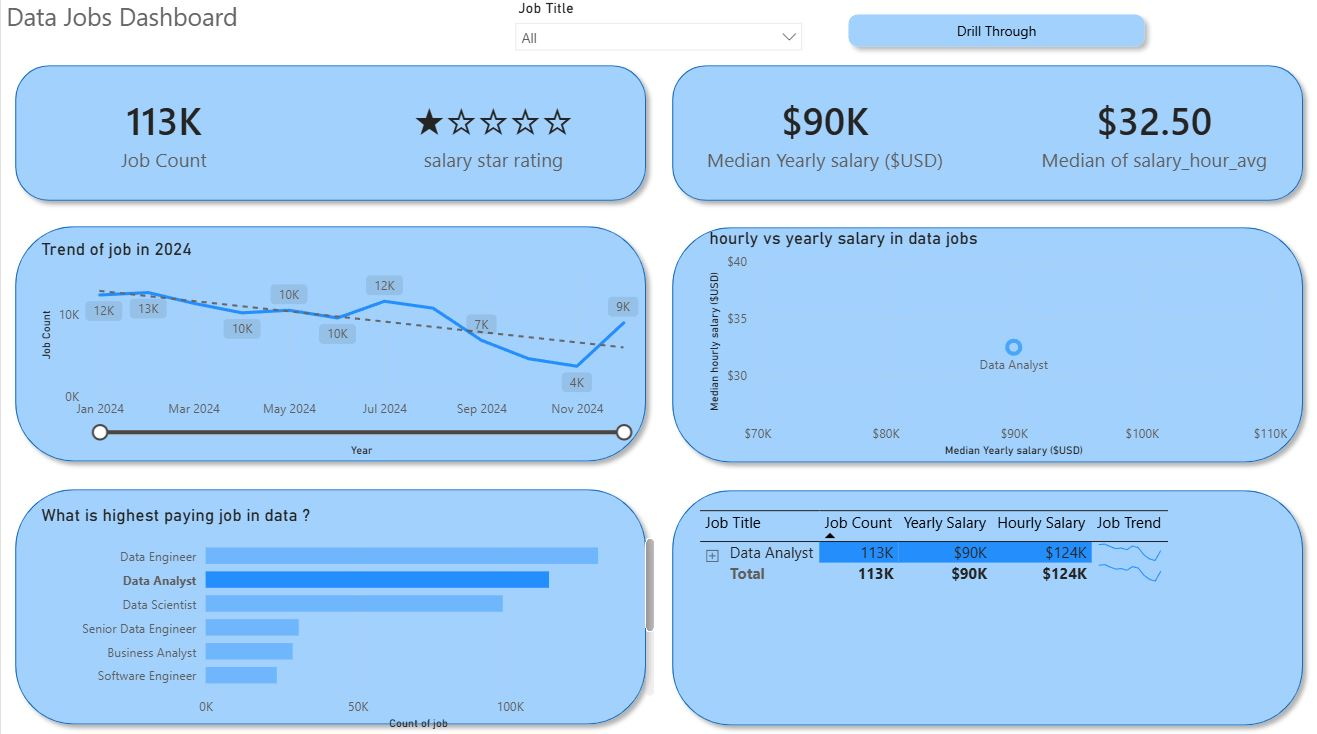

This screenshot's page, from the dashboard's own definition file:
{"tool":"powerbi","page":{"name":"Dashboard","canvas":[1280,720],"ordinal":0},"visuals":[{"type":"group","id":"g1","title":"bg","box":[5,60,1271,660.5],"z":0},{"type":"shape","box":[5,60,631.5,149.9],"z":0,"group":"g1"},{"type":"textbox","box":[0,0,266.5,42.8],"z":1000},{"type":"shape","box":[644.5,60,631.5,149.9],"z":1000,"group":"g1"},{"type":"cardVisual","fields":{"Data":["Median(job_postings_flat.salary_year_avg)"]},"box":[640,76.8,323.5,116.4],"z":2000},{"type":"shape","box":[5,216.9,631.5,246.8],"z":2000,"group":"g1"},{"type":"cardVisual","fields":{"Data":["Median(job_postings_flat.salary_hour_avg)"]},"box":[963.5,76.8,316.5,116.4],"z":3000},{"type":"shape","box":[5,472.7,631.5,246.8],"z":3000,"group":"g1"},{"type":"cardVisual","fields":{"Data":["job_postings_flat.salary star rating"]},"box":[317.7,76.8,322.3,116.4],"z":4000},{"type":"shape","box":[644.5,473.7,631.5,246.8],"z":4000,"group":"g1"},{"type":"cardVisual","fields":{"Data":["CountNonNull(job_postings_flat.job_title_short)"]},"box":[0,76.8,317.7,116.4],"z":5000},{"type":"shape","box":[644.5,217.9,631.5,246.8],"z":5000,"group":"g1"},{"type":"lineChart","title":"Trend of job in 2024","fields":{"Category":["job_postings_flat.job_posted_date.Variation.Date Hierarchy.Year","job_postings_flat.job_posted_date.Variation.Date Hierarchy.Quarter","job_postings_flat.job_posted_date.Variation.Date Hierarchy.Month","job_postings_flat.job_posted_date.Variation.Date Hierarchy.Day"],"Y":["CountNonNull(job_postings_flat.job_title_short)"]},"box":[33.7,238.5,602.8,216.4],"z":6000},{"type":"barChart","title":"What is highest paying job in data ?","fields":{"Category":["job_postings_flat.job_title_short"],"Y":["CountNonNull(job_postings_flat.job_title_short)"]},"box":[33.7,496.9,606.3,223.4],"z":7000},{"type":"scatterChart","title":"hourly vs yearly salary in data jobs","fields":{"X":["Median(job_postings_flat.salary_year_avg)"],"Y":["Median(job_postings_flat.salary_hour_avg)"],"Series":["job_postings_flat.job_title_short"]},"box":[684.2,228.1,572.5,226.9],"z":8000},{"type":"pivotTable","fields":{"Rows":["job_postings_flat.job_title_short","job_postings_flat.job_posted_date.Variation.Date Hierarchy.Quarter"],"Values":["CountNonNull(job_postings_flat.job_title_short)","Median(job_postings_flat.salary_year_avg)","Sum(job_postings_flat.salary_hour_avg)","SparklineData(CountNonNull(job_postings_flat.job_title_short)_[job_postings_flat.job_posted_date.Variation.Date Hierarch"]},"box":[674.9,496.9,600.4,209.5],"z":9000},{"type":"slicer","fields":{"Values":["job_postings_flat.job_title_short"]},"box":[489.9,0,299.1,60.5],"z":10000},{"type":"actionButton","box":[815.1,10.7,306.4,49.6],"z":10001}]}

Visuals, with their boxes in screenshot pixels (x1, y1, x2, y2), scaled from the page's 1280x720 canvas onto the 1317x734 screenshot:
"bg" group: crop(5, 61, 1313, 733)
shape: crop(5, 61, 655, 214)
textbox: crop(0, 0, 274, 44)
shape: crop(663, 61, 1313, 214)
cardVisual - Median(job_postings_flat.salary_year_avg): crop(658, 78, 991, 197)
shape: crop(5, 221, 655, 473)
cardVisual - Median(job_postings_flat.salary_hour_avg): crop(991, 78, 1316, 197)
shape: crop(5, 482, 655, 733)
cardVisual - job_postings_flat.salary star rating: crop(327, 78, 658, 197)
shape: crop(663, 483, 1313, 733)
cardVisual - CountNonNull(job_postings_flat.job_title_short): crop(0, 78, 327, 197)
shape: crop(663, 222, 1313, 474)
"Trend of job in 2024" lineChart: crop(35, 243, 655, 464)
"What is highest paying job in data ?" barChart: crop(35, 507, 658, 733)
"hourly vs yearly salary in data jobs" scatterChart: crop(704, 233, 1293, 464)
pivotTable - job_postings_flat.job_title_short x job_postings_flat.job_posted_date.Variation.Date Hierarchy.Quarter: crop(694, 507, 1312, 720)
slicer - job_postings_flat.job_title_short: crop(504, 0, 812, 62)
actionButton: crop(839, 11, 1154, 61)
